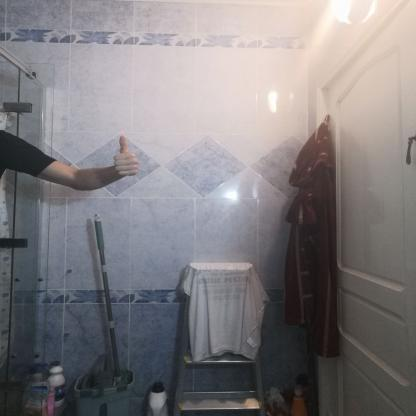ALIF: (104, 130, 146, 182)
